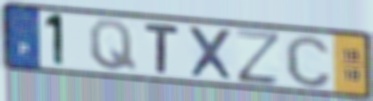1: (41, 12, 66, 70)
C: (283, 33, 334, 90)
Q: (87, 17, 140, 73)
T: (142, 21, 182, 76)
X: (186, 24, 236, 82)
Z: (234, 27, 284, 87)
